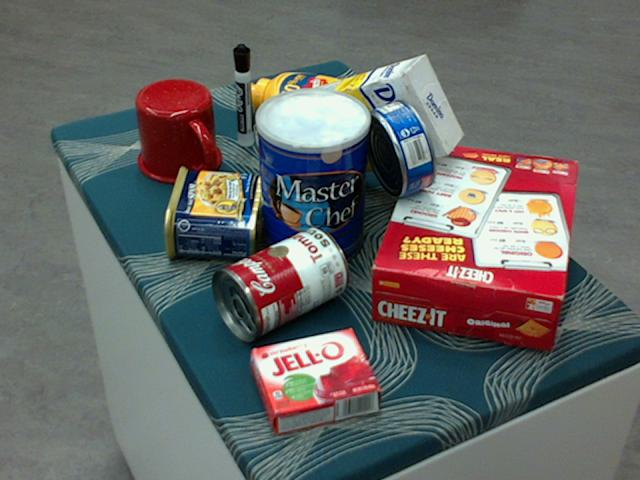cracker_box: (369, 141, 577, 349)
gelatin_box: (250, 327, 381, 432)
large_marker: (232, 43, 254, 147)
master_chef_can: (255, 89, 369, 272)
mug: (135, 79, 223, 183)
mustard_bottle: (239, 71, 407, 152)
potted_meat_can: (163, 166, 263, 259)
sugar_box: (274, 55, 462, 180)
tomato_soup_can: (209, 227, 347, 339)
tuna_fish_can: (363, 97, 436, 195)
